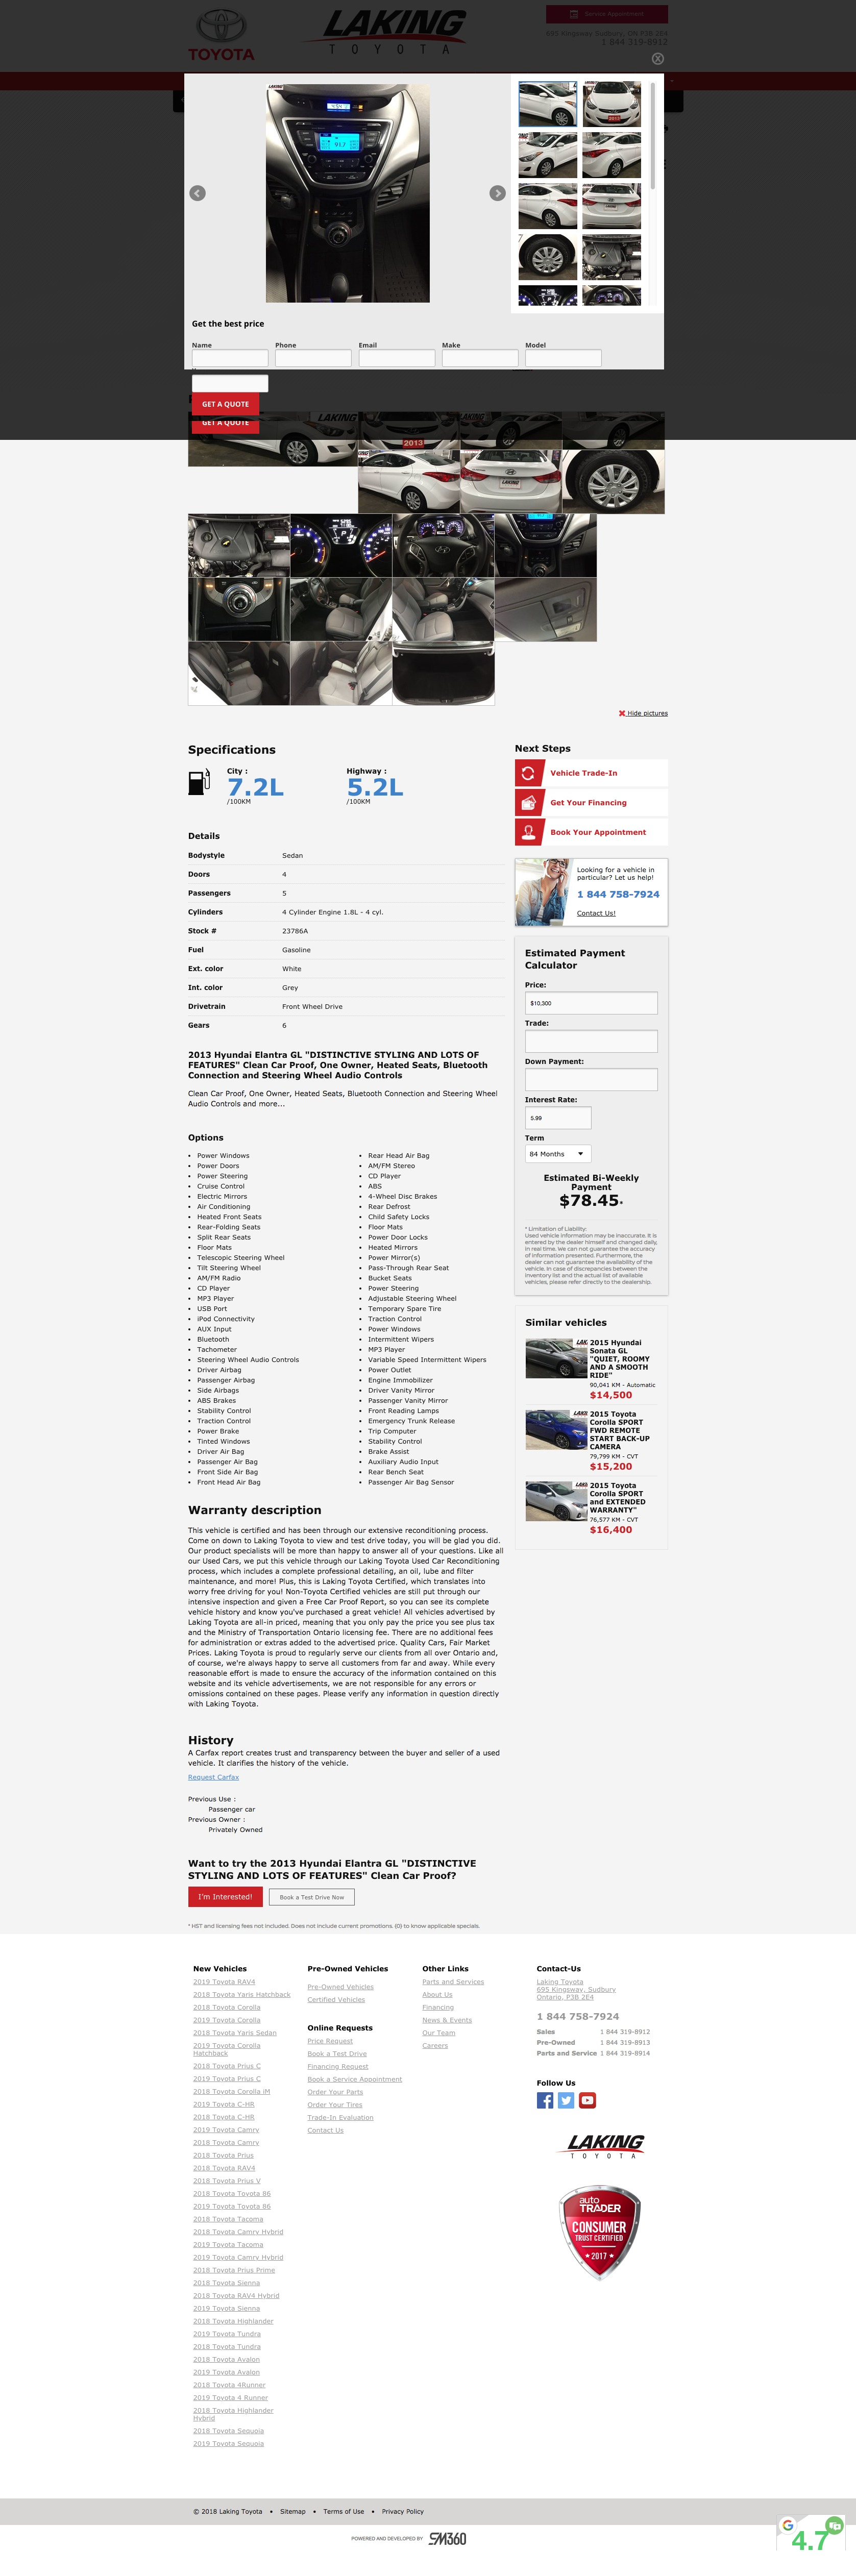car: (647, 294, 659, 310)
